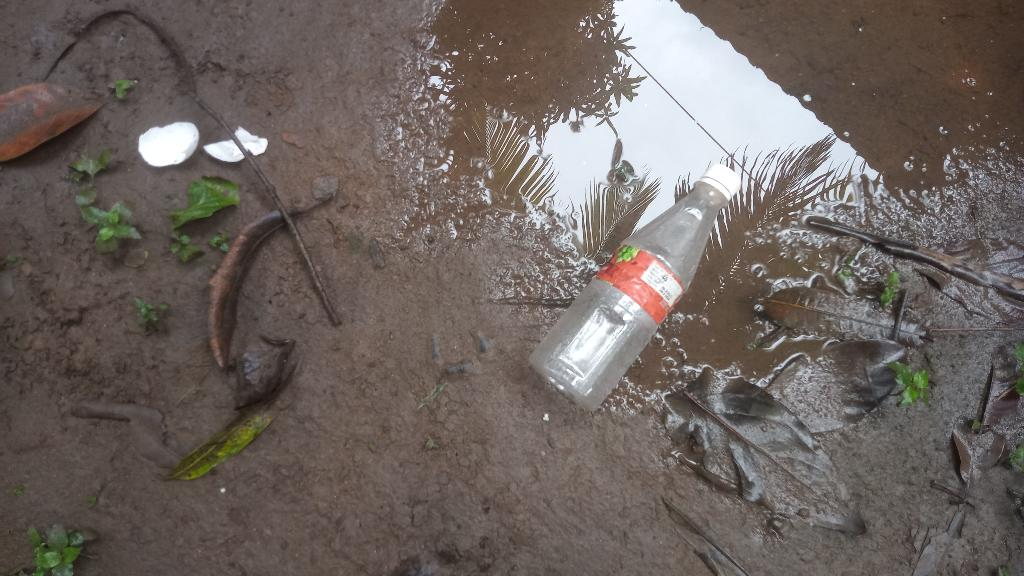garbage: (528, 154, 747, 416)
